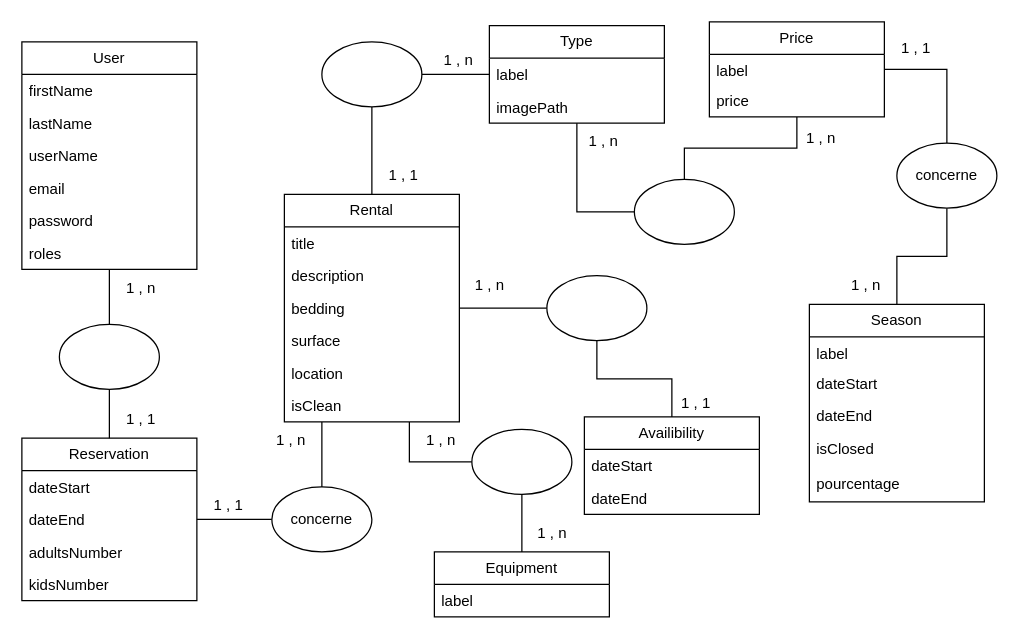
Some shapes in this 1019 by 643 pixel diagram are drawn without their labels. The shapes that lost their labels are listed below. From the top down, each one's centre as x and y in pixels, then its label:
[371,74]: est
[683,211]: coûte
[596,307]: est disponible
[108,356]: effectue
[521,461]: comporte
